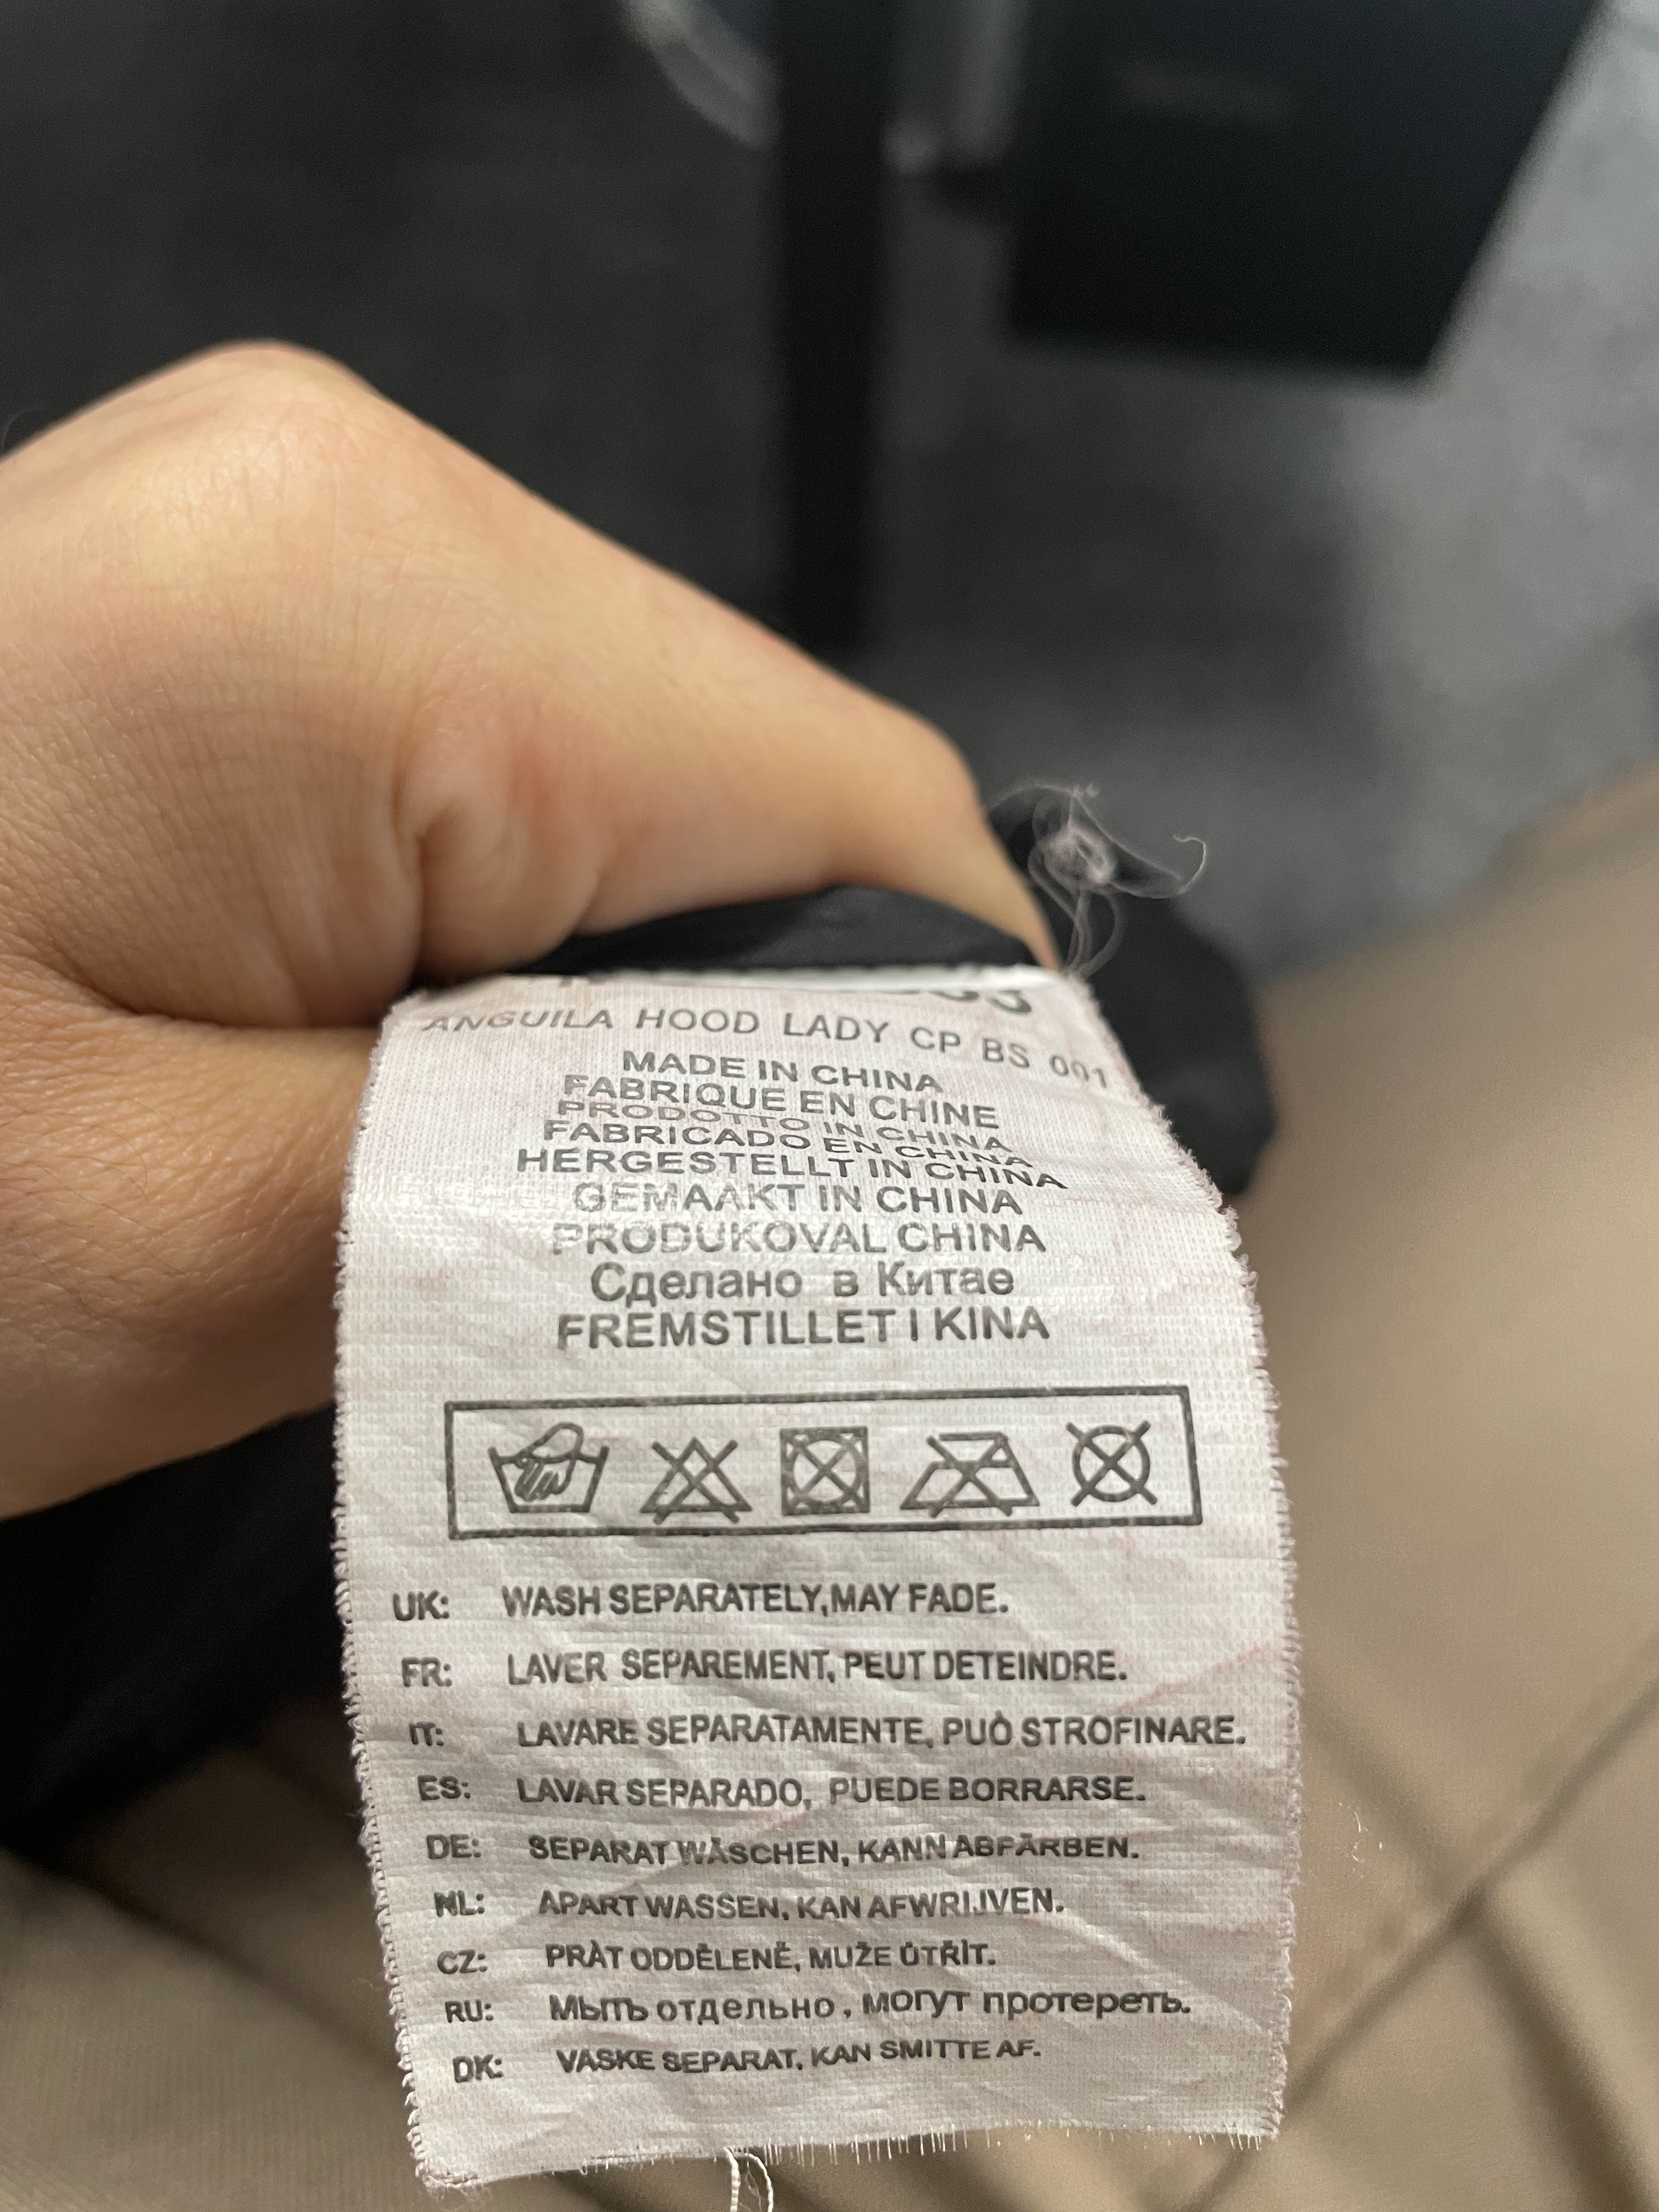do not bleach: (620, 1411, 775, 1540)
do not dry clean: (1063, 1400, 1180, 1512)
do not iron: (889, 1406, 1053, 1527)
do not tumble dry: (765, 1416, 889, 1515)
handwash: (479, 1418, 634, 1522)
